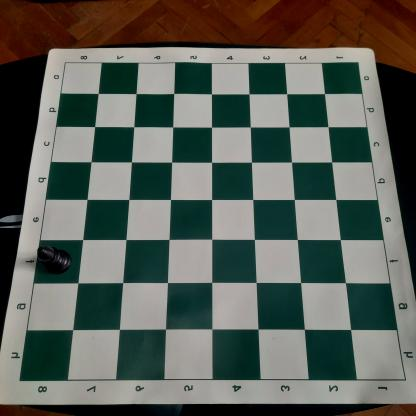black-bishop: (35, 243, 74, 276)
